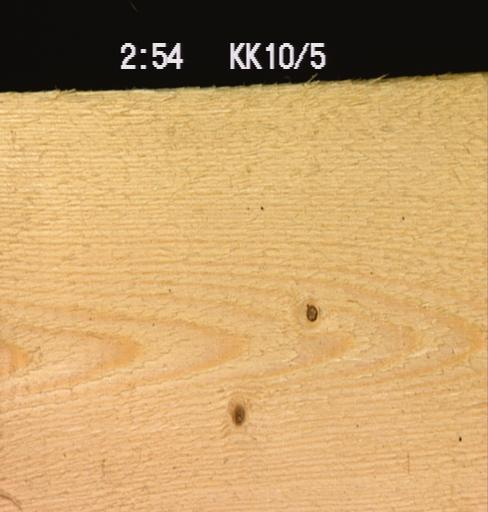dry_knot: (229, 401, 246, 426), (304, 302, 318, 322)
